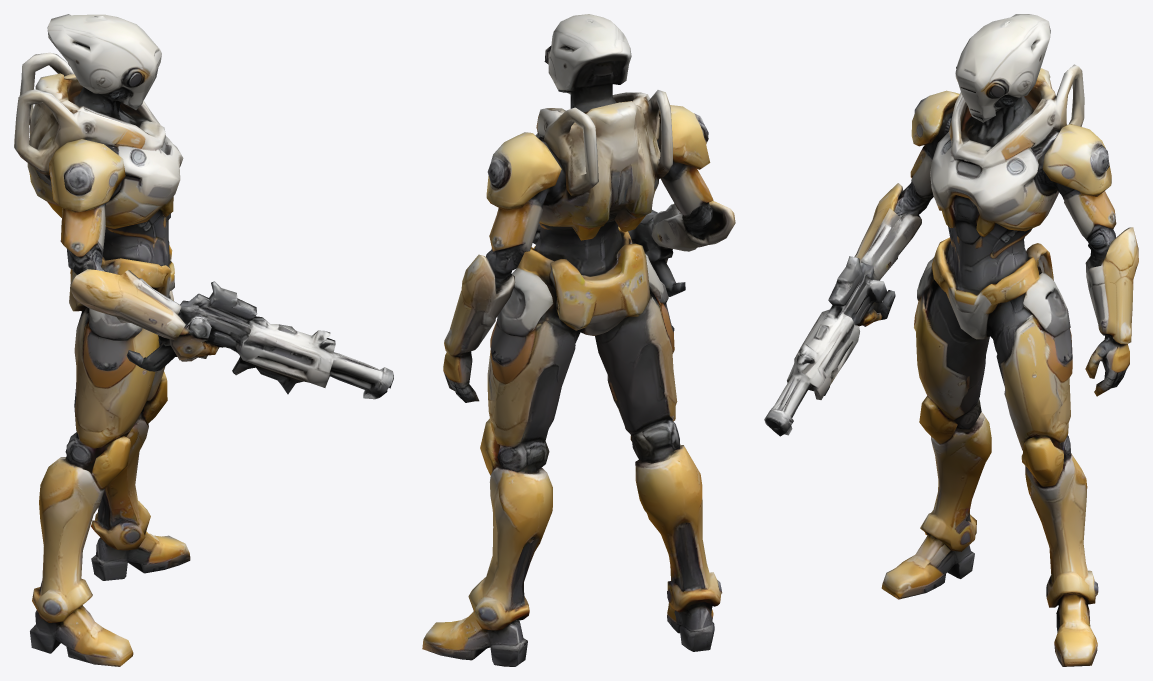
The model's file is tau.glb.
The picture shows the model from 3 angles, left to right: view 1: azimuth 30°, elevation 25°; view 2: azimuth 150°, elevation 25°; view 3: azimuth 270°, elevation 25°; orthographic projection. The views are drawn at different scales.
Parts seen in each view (by area): view 1: node_92a81b53-7522-4269-9aeb-fa9abafe9575; view 2: node_92a81b53-7522-4269-9aeb-fa9abafe9575; view 3: node_92a81b53-7522-4269-9aeb-fa9abafe9575.
Part boxes in pixels (bbox=[...]): node_92a81b53-7522-4269-9aeb-fa9abafe9575: bbox=[14, 14, 393, 666]; node_92a81b53-7522-4269-9aeb-fa9abafe9575: bbox=[422, 14, 735, 666]; node_92a81b53-7522-4269-9aeb-fa9abafe9575: bbox=[764, 14, 1138, 666].
Bounding box in the file's own units: 0.4778 × 1 × 0.5778.
1 material, 1 textured.
